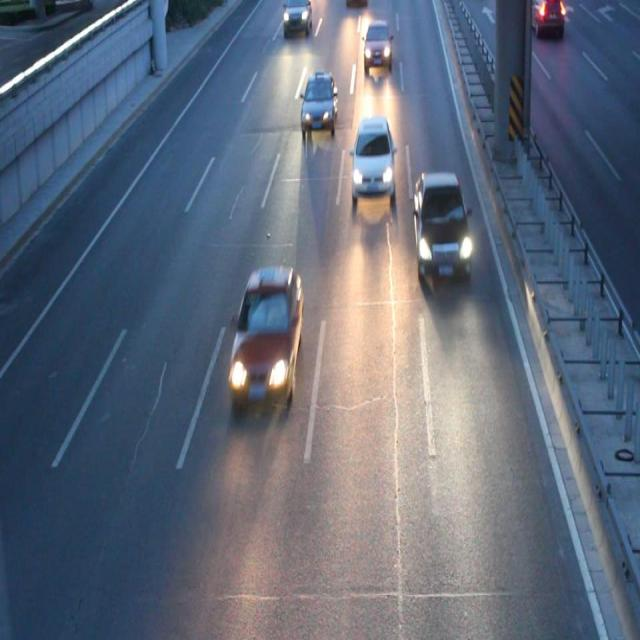car: (229, 266, 302, 407), (411, 170, 470, 282), (348, 117, 394, 208), (300, 73, 336, 136), (362, 20, 392, 74), (282, 1, 311, 36)
